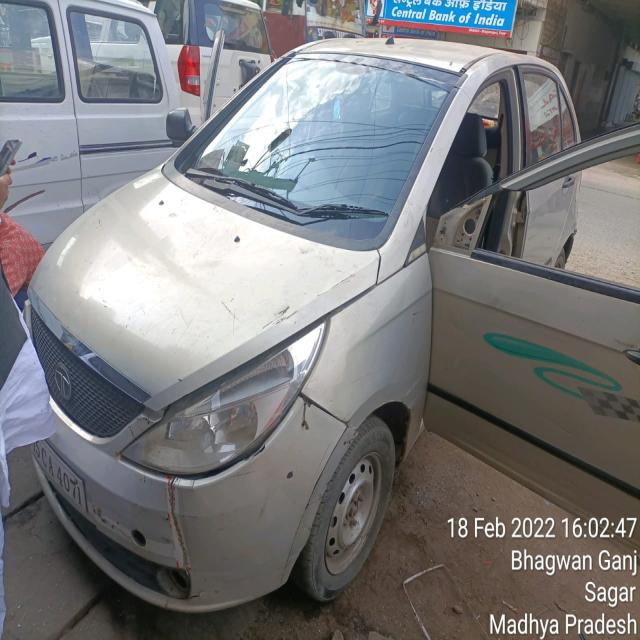damage: (218, 251, 366, 334), (98, 510, 177, 567), (155, 477, 195, 573), (300, 447, 337, 526), (292, 397, 326, 445), (241, 445, 272, 474), (279, 467, 301, 490)
